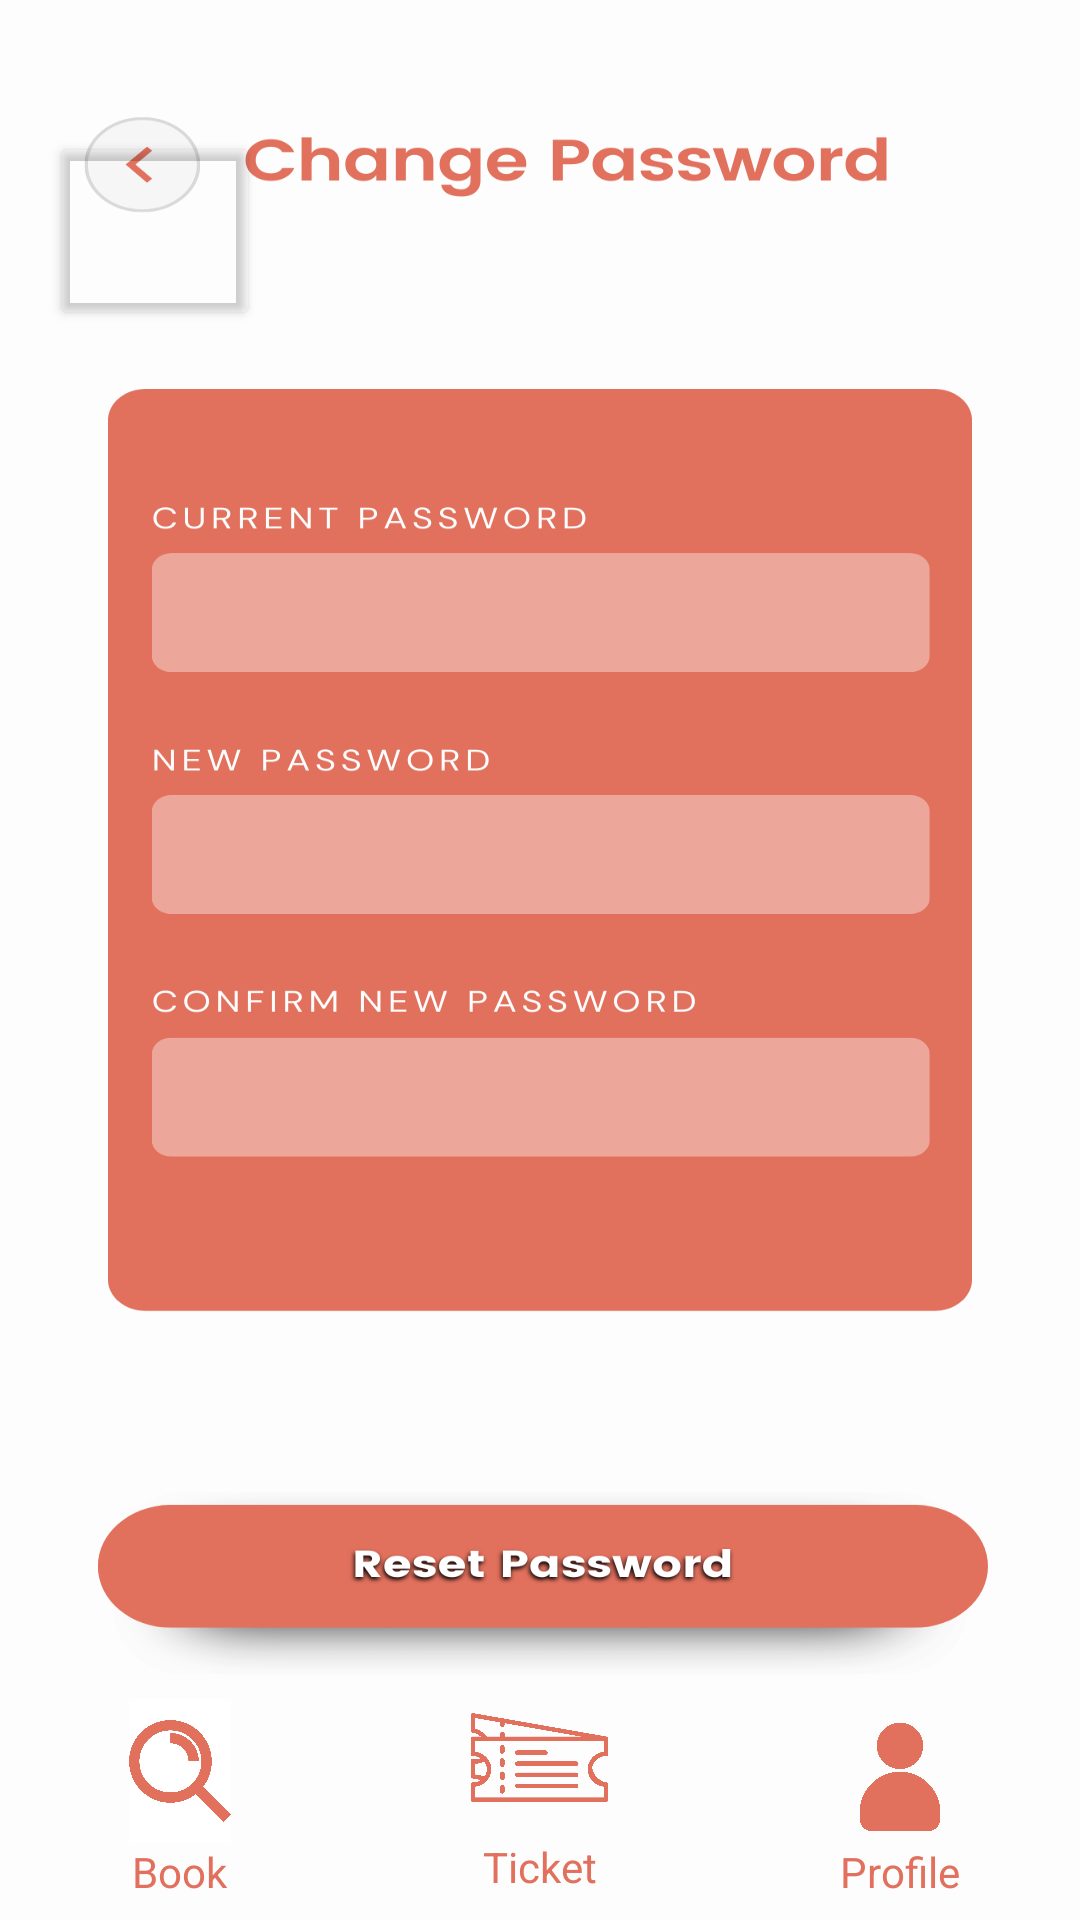

Point at icon controls on the screen. Image size 1080*1920, points as (x=x, y=y).
iconuser: (x=900, y=1777)
